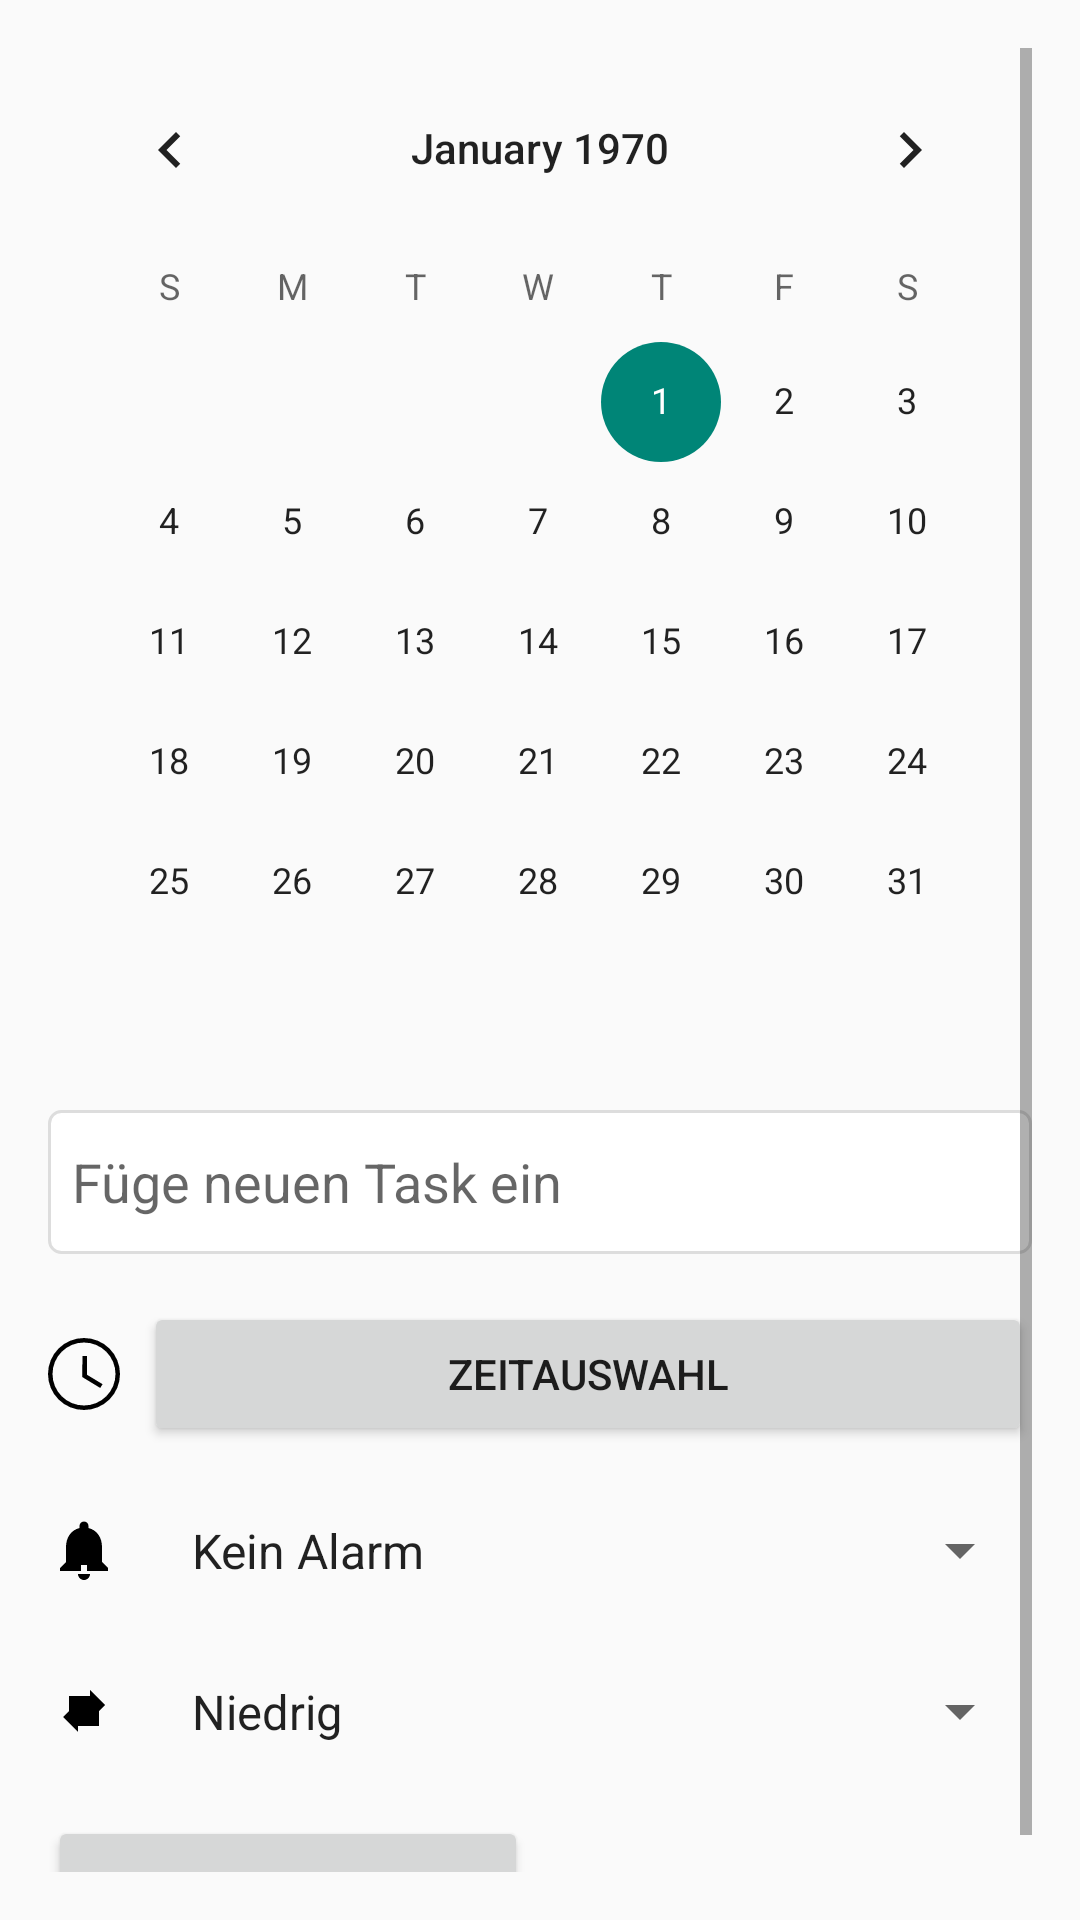

Named icons in this screenshot (1080x1920) and their centers, point (x, y):
time: point (84, 1374)
